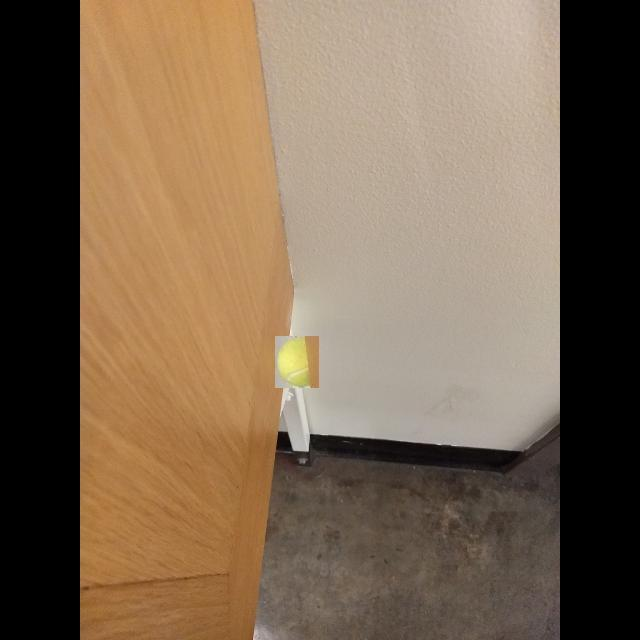tennis ball: (275, 336, 319, 388)
